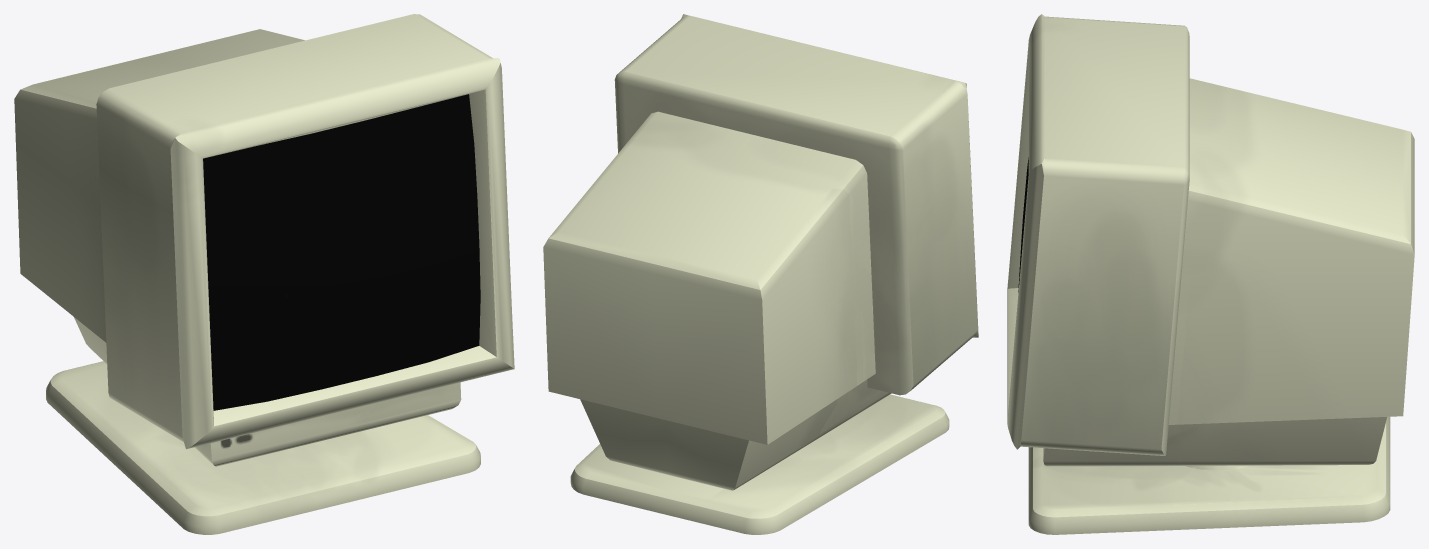
The model's file is computer_monitor.fbx.
3 renders of one model, left to right at view 1: azimuth 30°, elevation 25°; view 2: azimuth 150°, elevation 25°; view 3: azimuth 270°, elevation 25°, orthographic. The views are drawn at different scales.
Parts seen in each view (by area): view 1: Cube; view 2: Cube; view 3: Cube.
Part boxes in pixels (x1,y1,x2,y2): Cube: [14, 14, 514, 534]; Cube: [543, 14, 978, 534]; Cube: [1007, 14, 1414, 534].
Size of the model in its own units: 200 by 232 by 225.
1 material, 1 textured.
